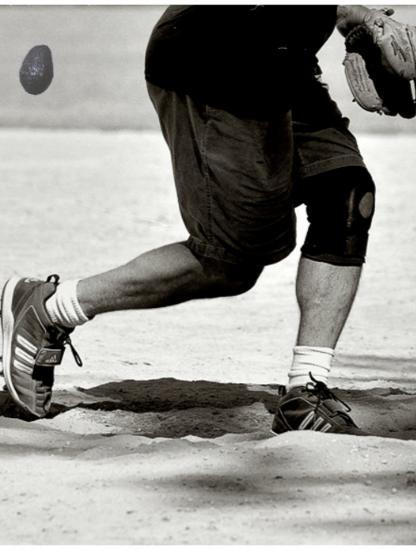Avocado: (12, 44, 64, 96)
